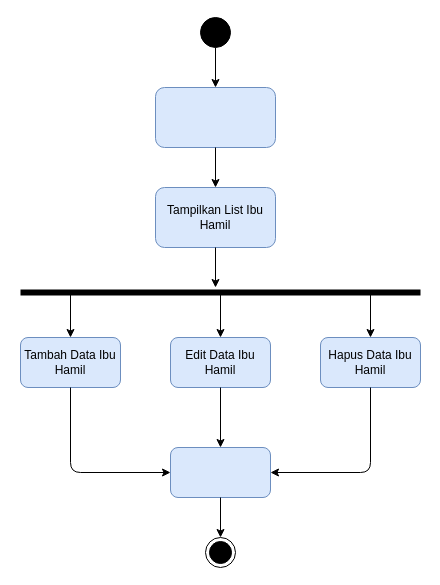
Some shapes in this 440 by 585 pixel diagram are drawn without their labels. The centre of each missing label's shape, as x and y in pixels:
Pilih Menu Ibu Hamil: the point at 215,117
Update Database: the point at 220,472
